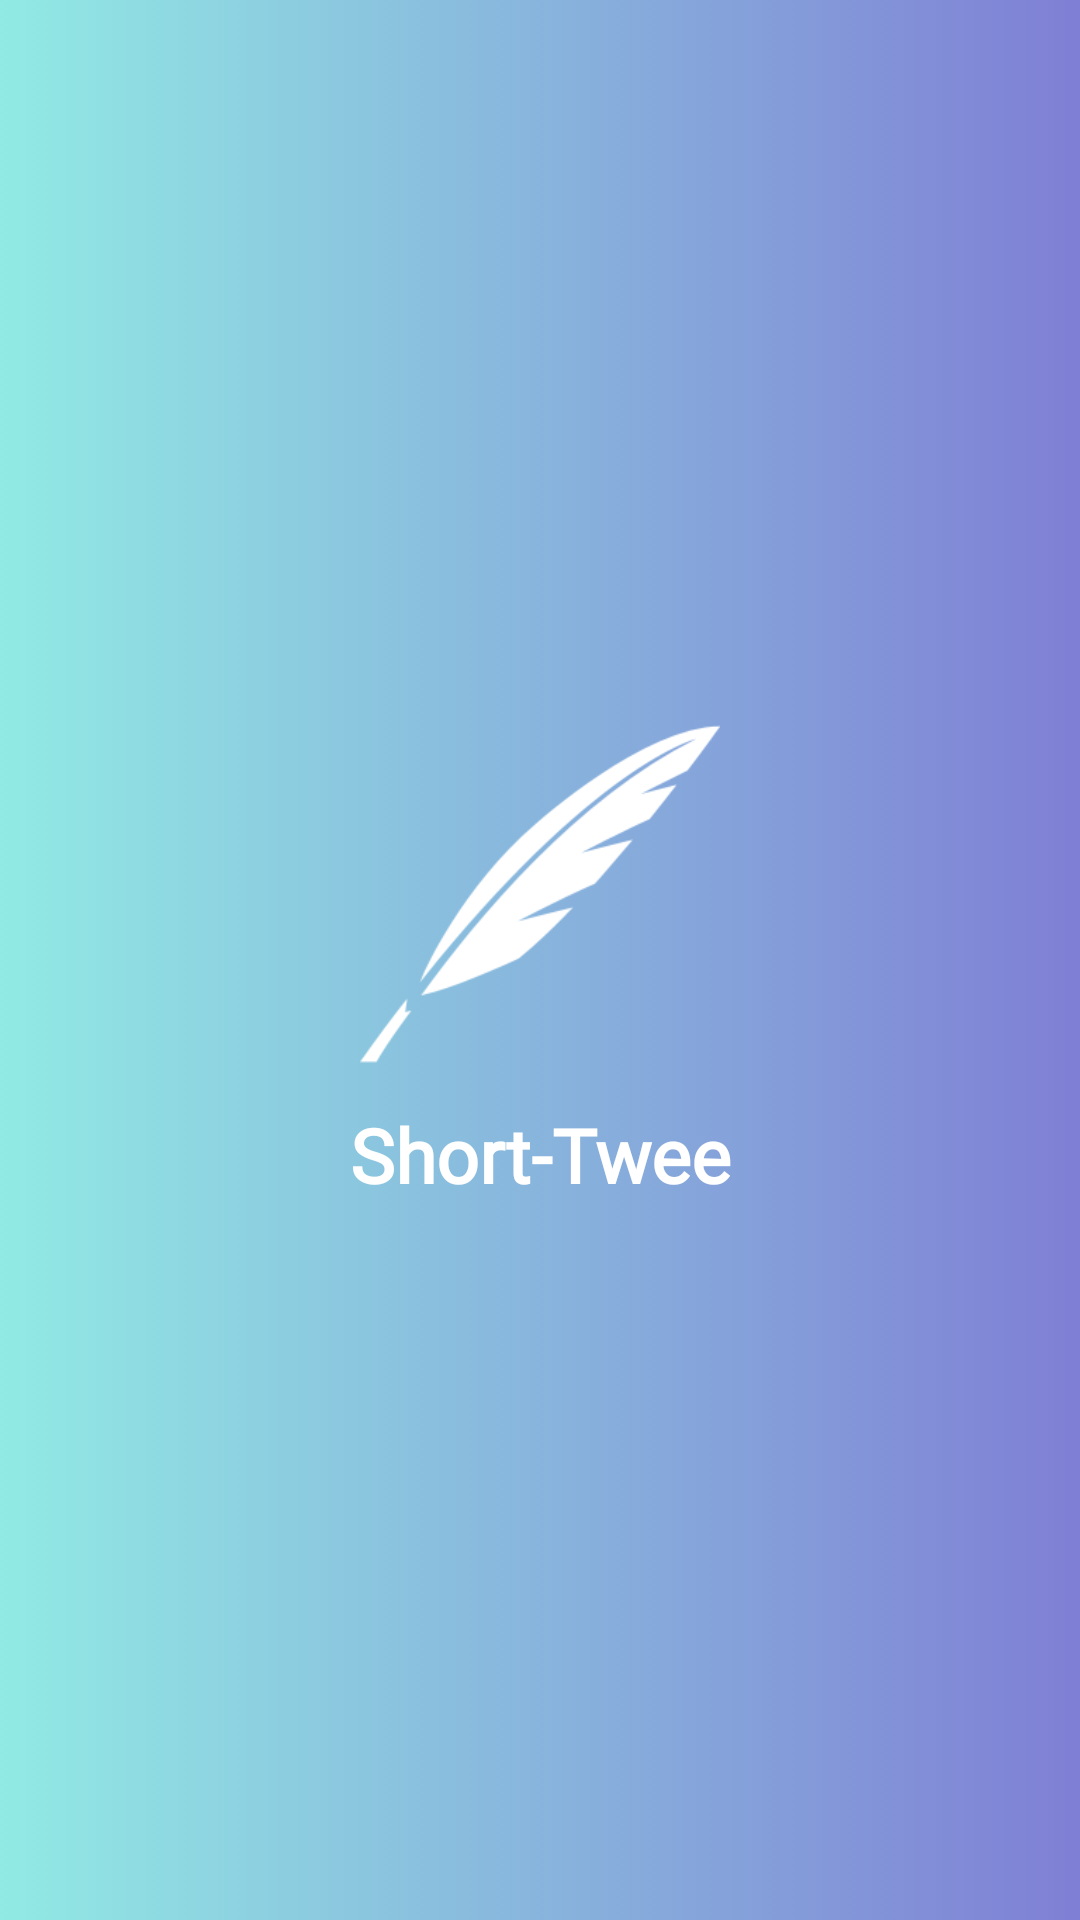

Named icons in this screenshot (1080px x 1920px) and their centers, [x,y]:
feather: [540,894]
